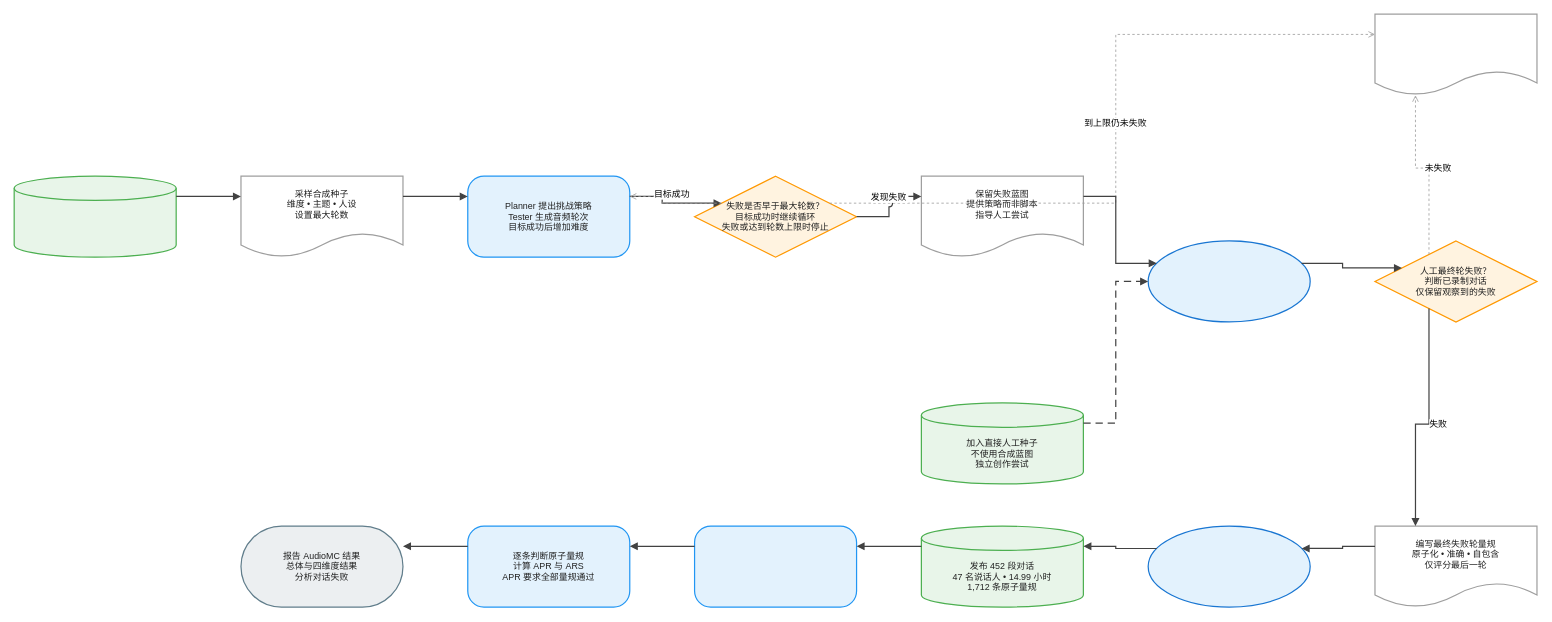
Image size: 1552x622. Some labels were removed from this diagram. The centre of each missing label's shape, as x and y in pixels:
"丢弃未失败的尝试 无失败则不生成量规 记录排除原因" goes at pixel 1455 54.
"定义四个音频维度 记忆 • 指令保持 连贯性 • 语音编辑" goes at pixel 94 216.
"录制人工对话 约 65% 使用合成蓝图 其余使用直接人工种子" goes at pixel 1228 281.
"注入固定对话上下文 只生成最终轮回答 保持历史完全一致" goes at pixel 775 566.
"运行三阶段质检 训练后评审 • 独立质检 内部研究团队审核" goes at pixel 1228 566.
